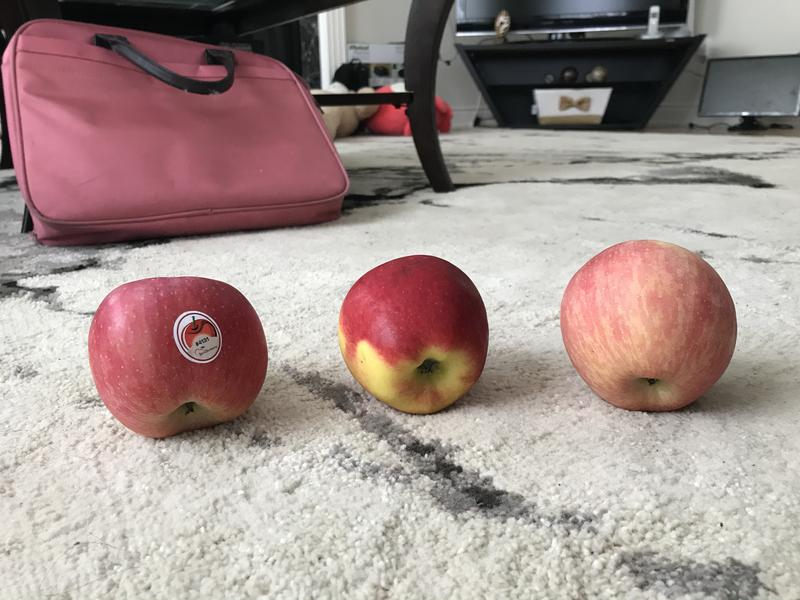red_apple: (85, 262, 278, 447), (555, 234, 743, 418), (331, 245, 501, 422)
